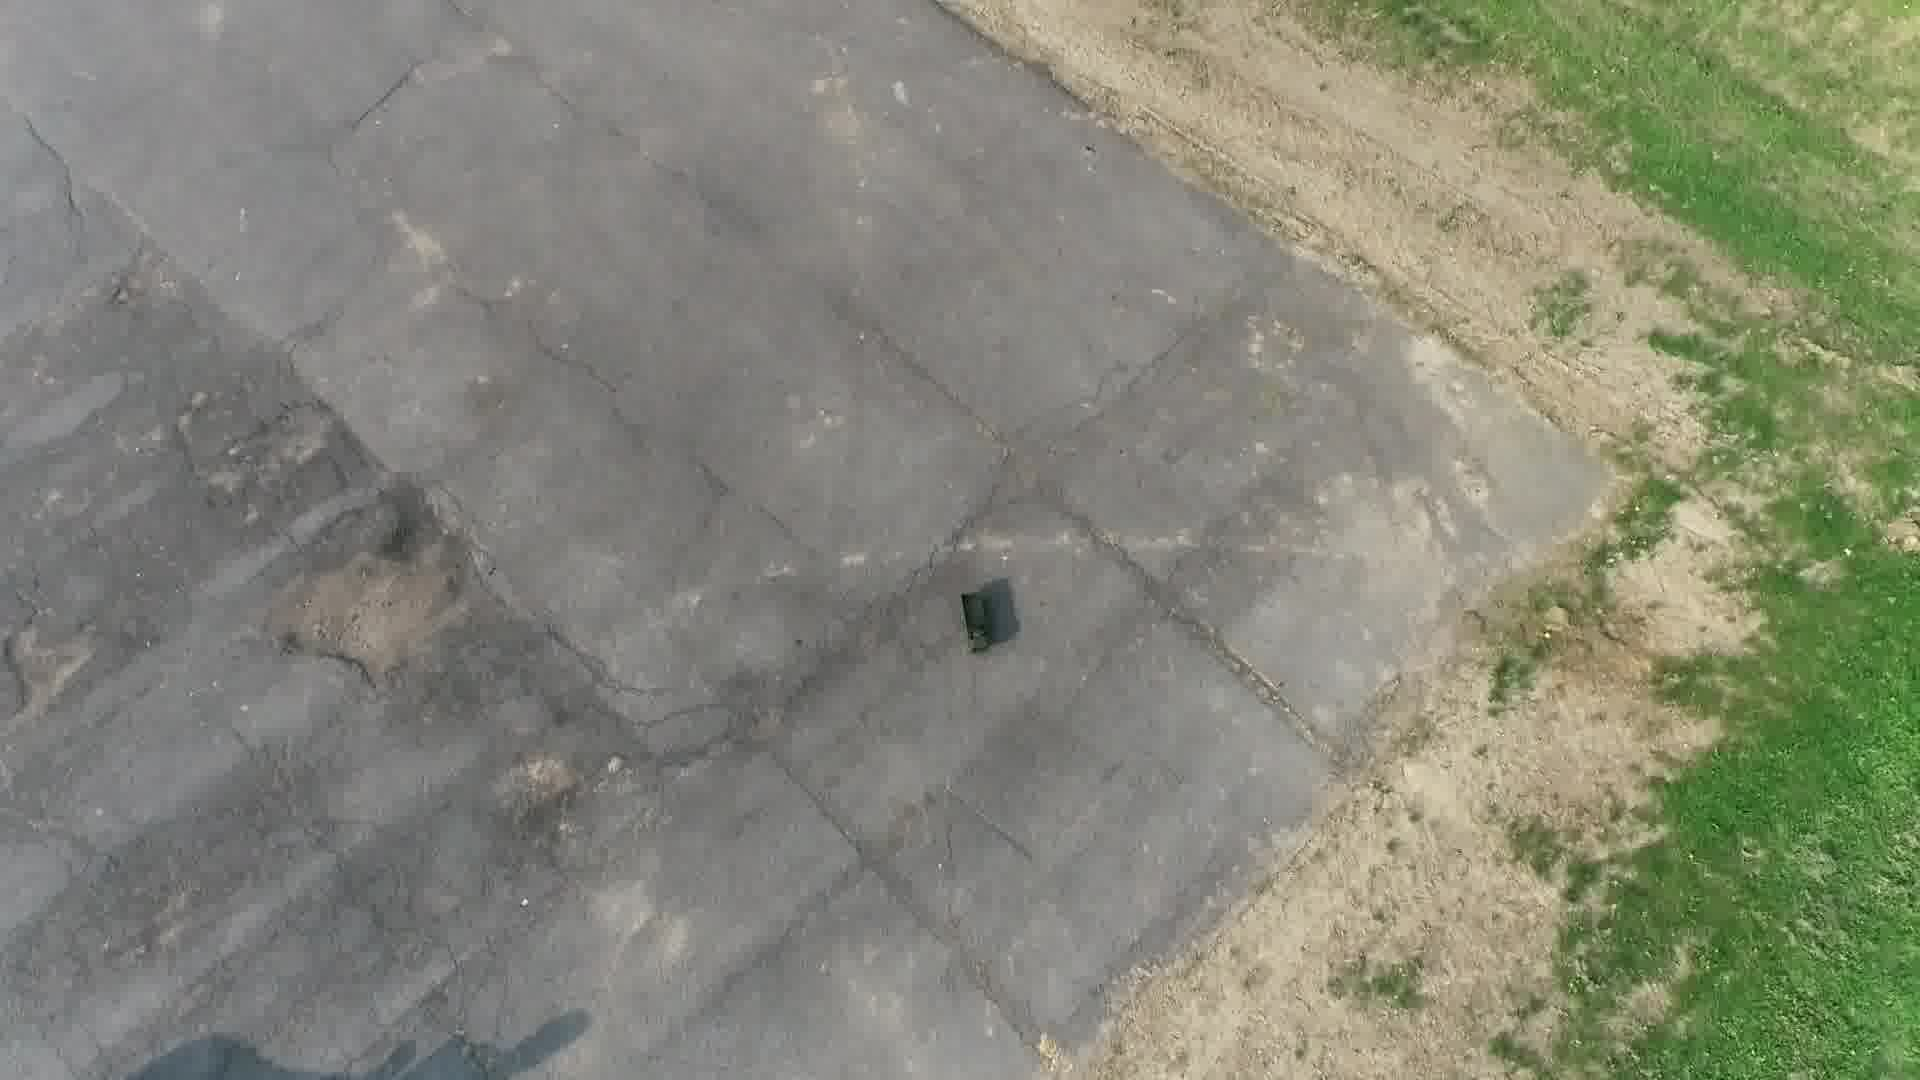transporter9: (952, 589, 996, 655)
